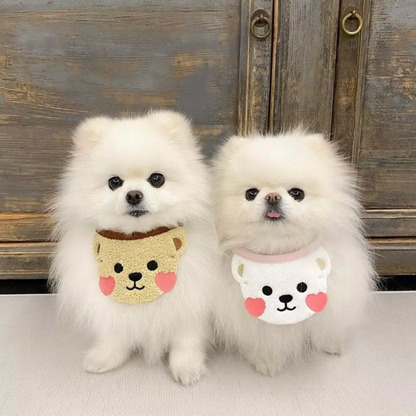Pomeranian: (58, 117, 214, 378), (213, 135, 384, 373)
